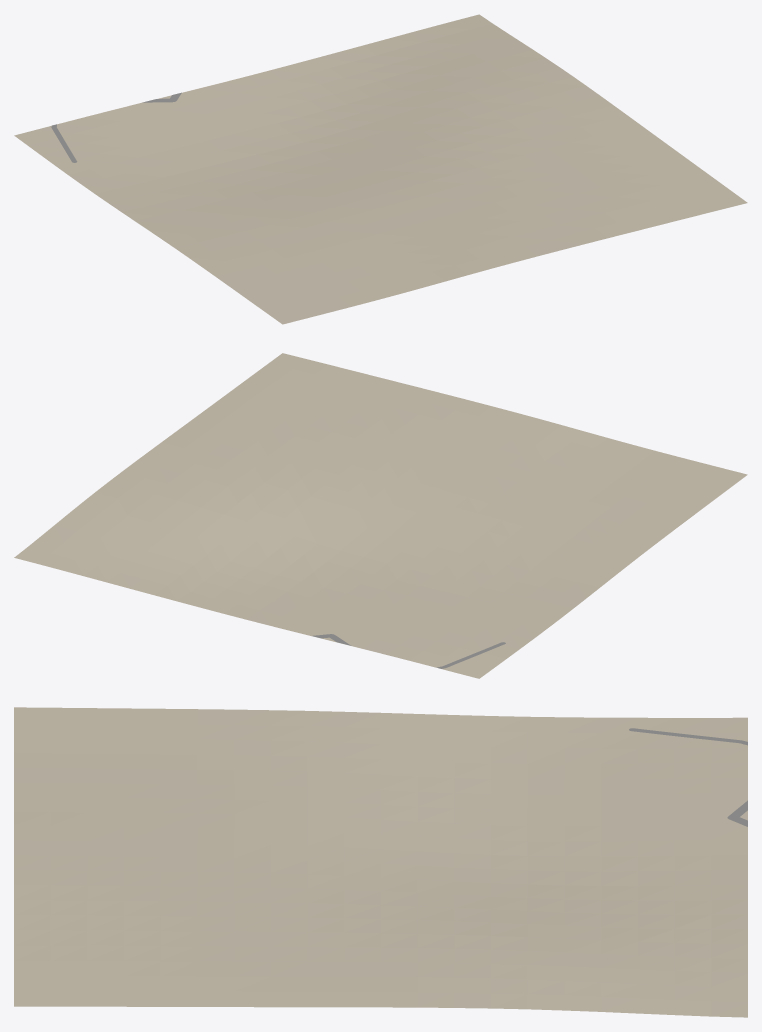
Rendered from bolak_-9_10.glb.
The picture shows the model from 3 angles, top to bottom: view 1: azimuth 30°, elevation 25°; view 2: azimuth 150°, elevation 25°; view 3: azimuth 270°, elevation 25°; orthographic projection. The views are drawn at different scales.
Parts seen in each view (by area): view 1: Yer_Tuproq-col; view 2: Yer_Tuproq-col; view 3: Yer_Tuproq-col, Yol_Mahalla-col.
Part boxes in pixels (x1,y1,x2,y2): Yer_Tuproq-col: (14,14,747,324); Yer_Tuproq-col: (14,353,747,678); Yer_Tuproq-col: (14,707,747,1017); Yol_Mahalla-col: (629,728,747,826).
Size of what is drawn, in the model's own units: 400 by 12.92 by 400.
